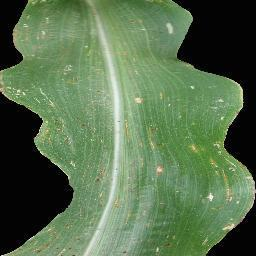Corn_Common_Rust: (2, 62, 114, 202), (9, 210, 98, 255), (123, 118, 153, 218), (216, 139, 256, 206), (12, 0, 69, 43), (117, 45, 155, 79), (151, 218, 185, 255), (211, 98, 245, 126), (144, 123, 176, 151), (152, 158, 172, 179), (116, 239, 138, 256), (129, 14, 151, 31), (220, 219, 239, 238), (131, 90, 151, 108), (165, 17, 182, 38), (186, 138, 203, 157), (158, 88, 175, 106), (197, 235, 215, 252), (200, 191, 216, 206), (186, 82, 204, 94)
